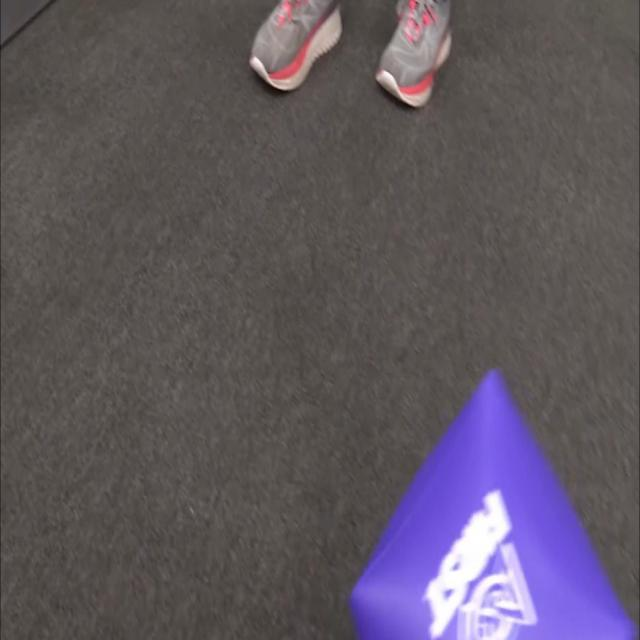frc_cube: (347, 362, 640, 640)
